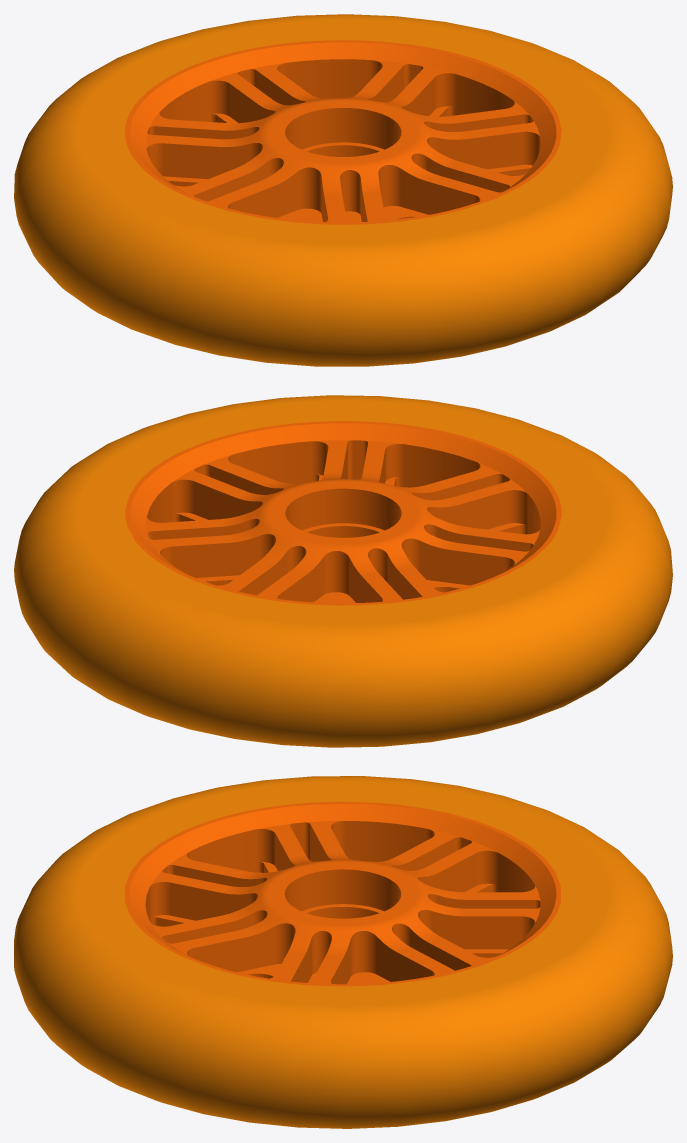
The model's file is big_wheel_tire.dae.
3 renders of one model, top to bottom at view 1: azimuth 30°, elevation 25°; view 2: azimuth 150°, elevation 25°; view 3: azimuth 270°, elevation 25°, orthographic.
Parts seen in each view (by area): view 1: Part 2, Part 1; view 2: Part 2, Part 1; view 3: Part 2, Part 1.
Boxes of the visible parts, x1=… form: Part 2: x1=14, y1=14, x2=672, y2=366; Part 1: x1=125, y1=40, x2=561, y2=224; Part 2: x1=14, y1=395, x2=672, y2=747; Part 1: x1=125, y1=421, x2=561, y2=605; Part 2: x1=14, y1=776, x2=672, y2=1128; Part 1: x1=125, y1=801, x2=560, y2=986.
Bounding box in the file's own units: 0.1245 × 0.1243 × 0.0243.
